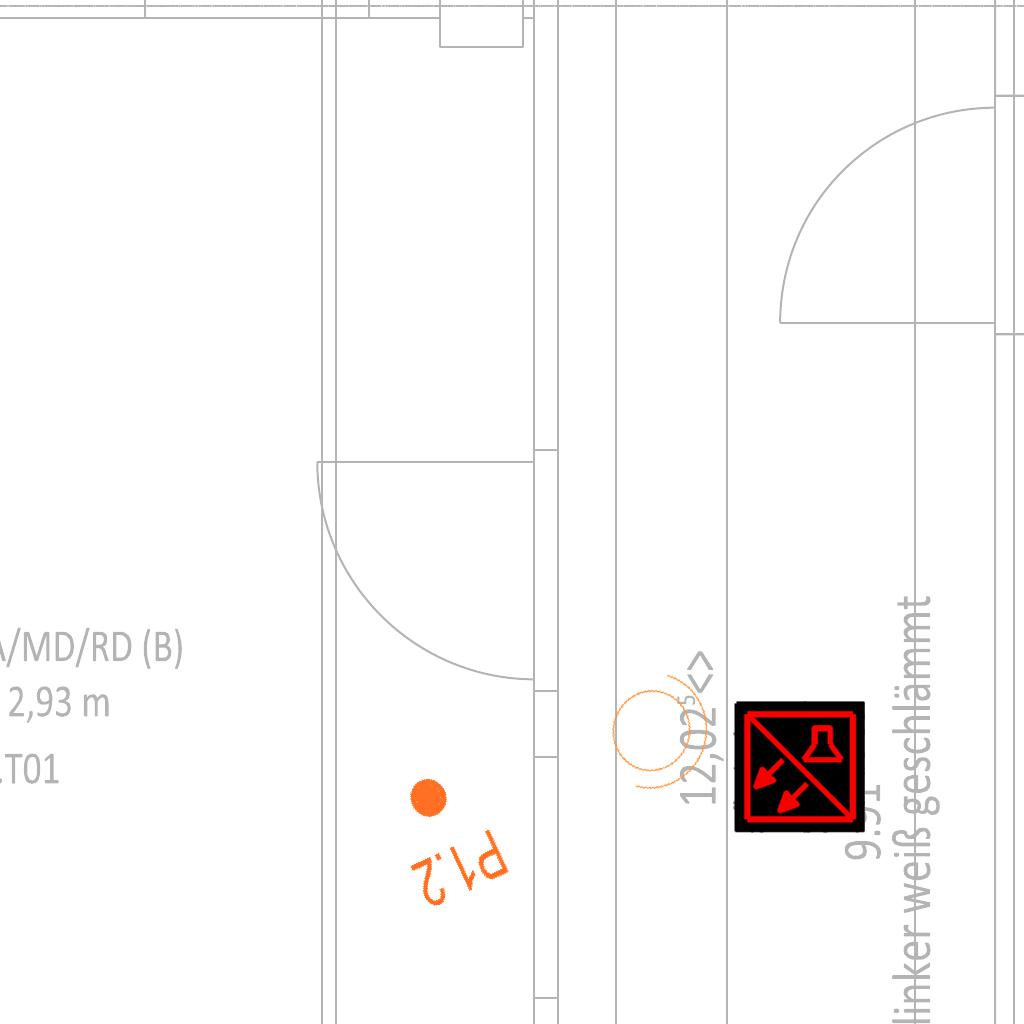Downlight_LED_Einbauleuchten_Flur: (375, 758, 514, 914)
OKW_Multisensormelder_(Kombination_optischer_Rauch-Kahlenmonoxid_Waerme-Melder): (733, 701, 865, 833)
Scheinwerfer_fuer_Alarmbeleuchtung: (584, 650, 730, 808)
